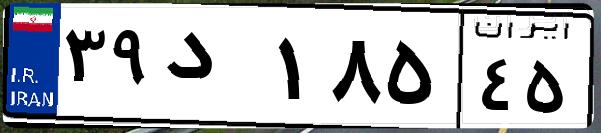1: (270, 28, 330, 110)
3: (57, 26, 110, 100)
4: (475, 38, 525, 113)
5: (385, 28, 445, 110), (525, 38, 570, 115)
8: (330, 28, 385, 110)
9: (110, 28, 158, 98)
د: (158, 20, 270, 120)
